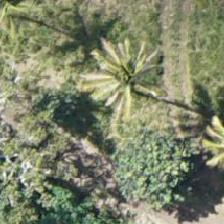coconut_tree: (76, 33, 166, 123)
